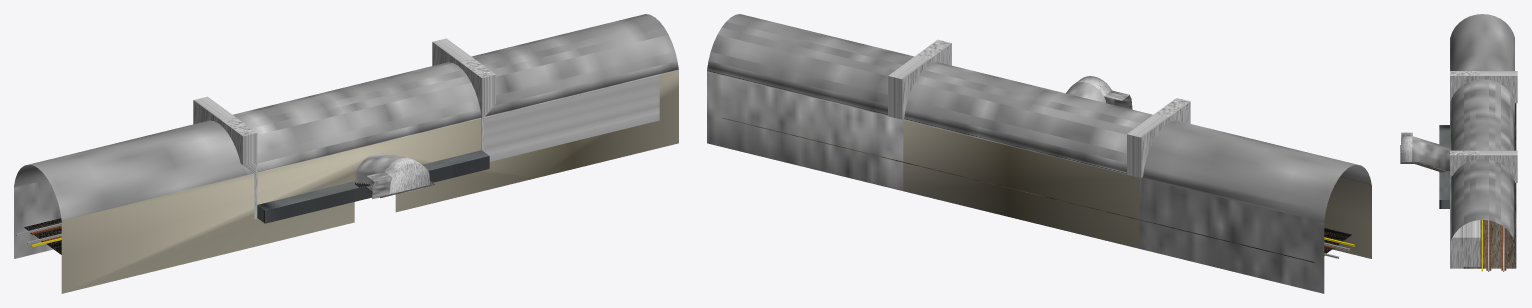
File: MetroStation.fbx
The picture shows the model from 3 angles, left to right: view 1: azimuth 30°, elevation 25°; view 2: azimuth 150°, elevation 25°; view 3: azimuth 270°, elevation 25°; orthographic projection. The views are drawn at different scales.
Visible parts, largest first — view 1: MetroWalls.001; view 2: MetroWalls.001; view 3: MetroWalls.001, Cube.001, Cube, Plane.002.
Boxes of the visible parts, <box> form: MetroWalls.001: <box>14,14,678,293</box>; MetroWalls.001: <box>707,14,1371,293</box>; MetroWalls.001: <box>1400,14,1517,271</box>; Cube.001: <box>1486,220,1491,270</box>; Cube: <box>1501,225,1506,270</box>; Plane.002: <box>1481,220,1482,271</box>.
Bounding box in the file's own units: 25060 × 4356 × 5981.
Materials: 18 (17 with a texture image).
